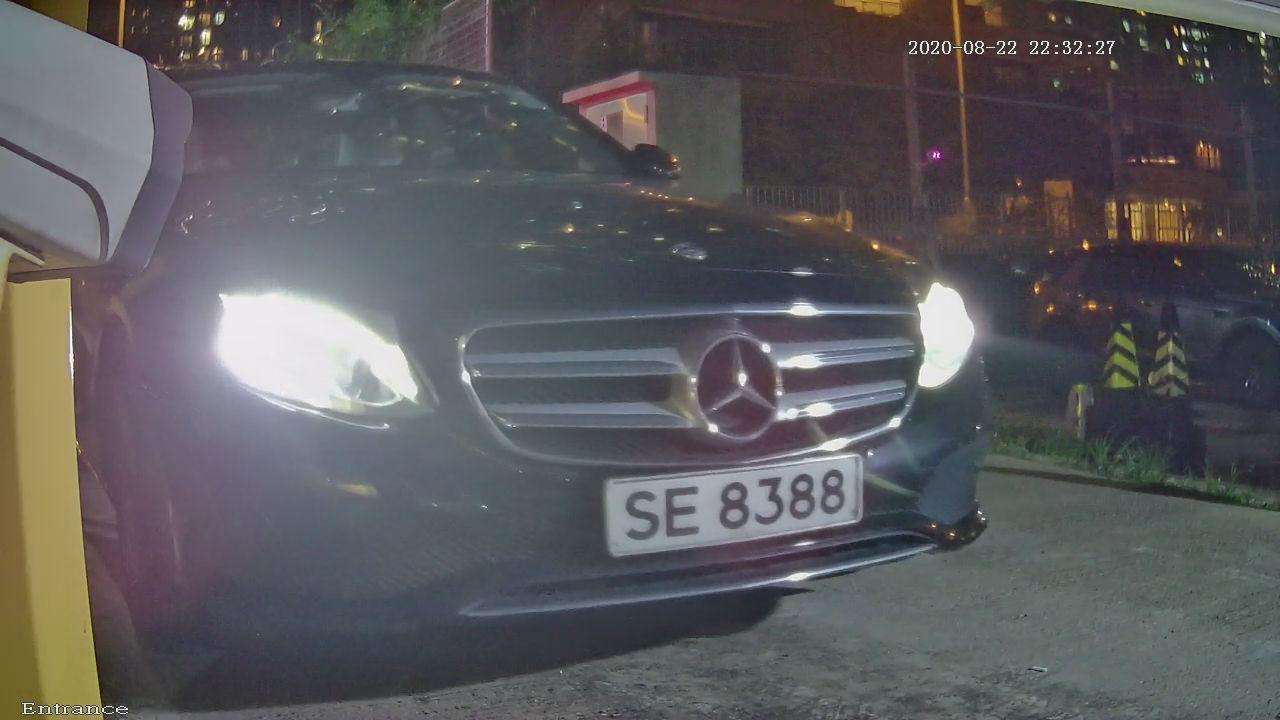Car: (12, 20, 1029, 692)
License Plate: (536, 388, 961, 605)
